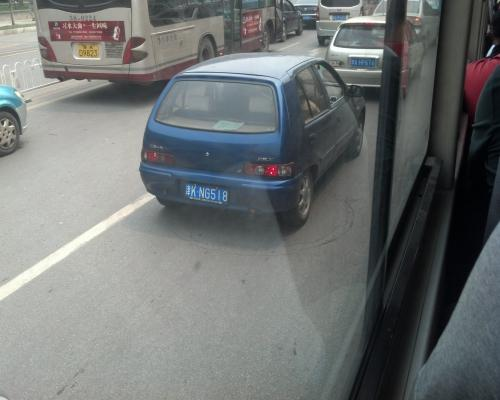Carplate: (182, 178, 231, 205)
